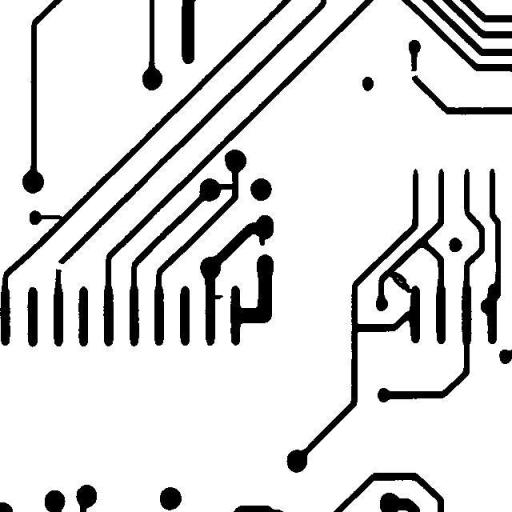open: (46, 253, 74, 277), (399, 62, 426, 84)
short: (380, 263, 422, 302), (32, 207, 70, 227), (210, 176, 244, 198)
spur: (251, 227, 273, 253), (205, 288, 230, 306)
